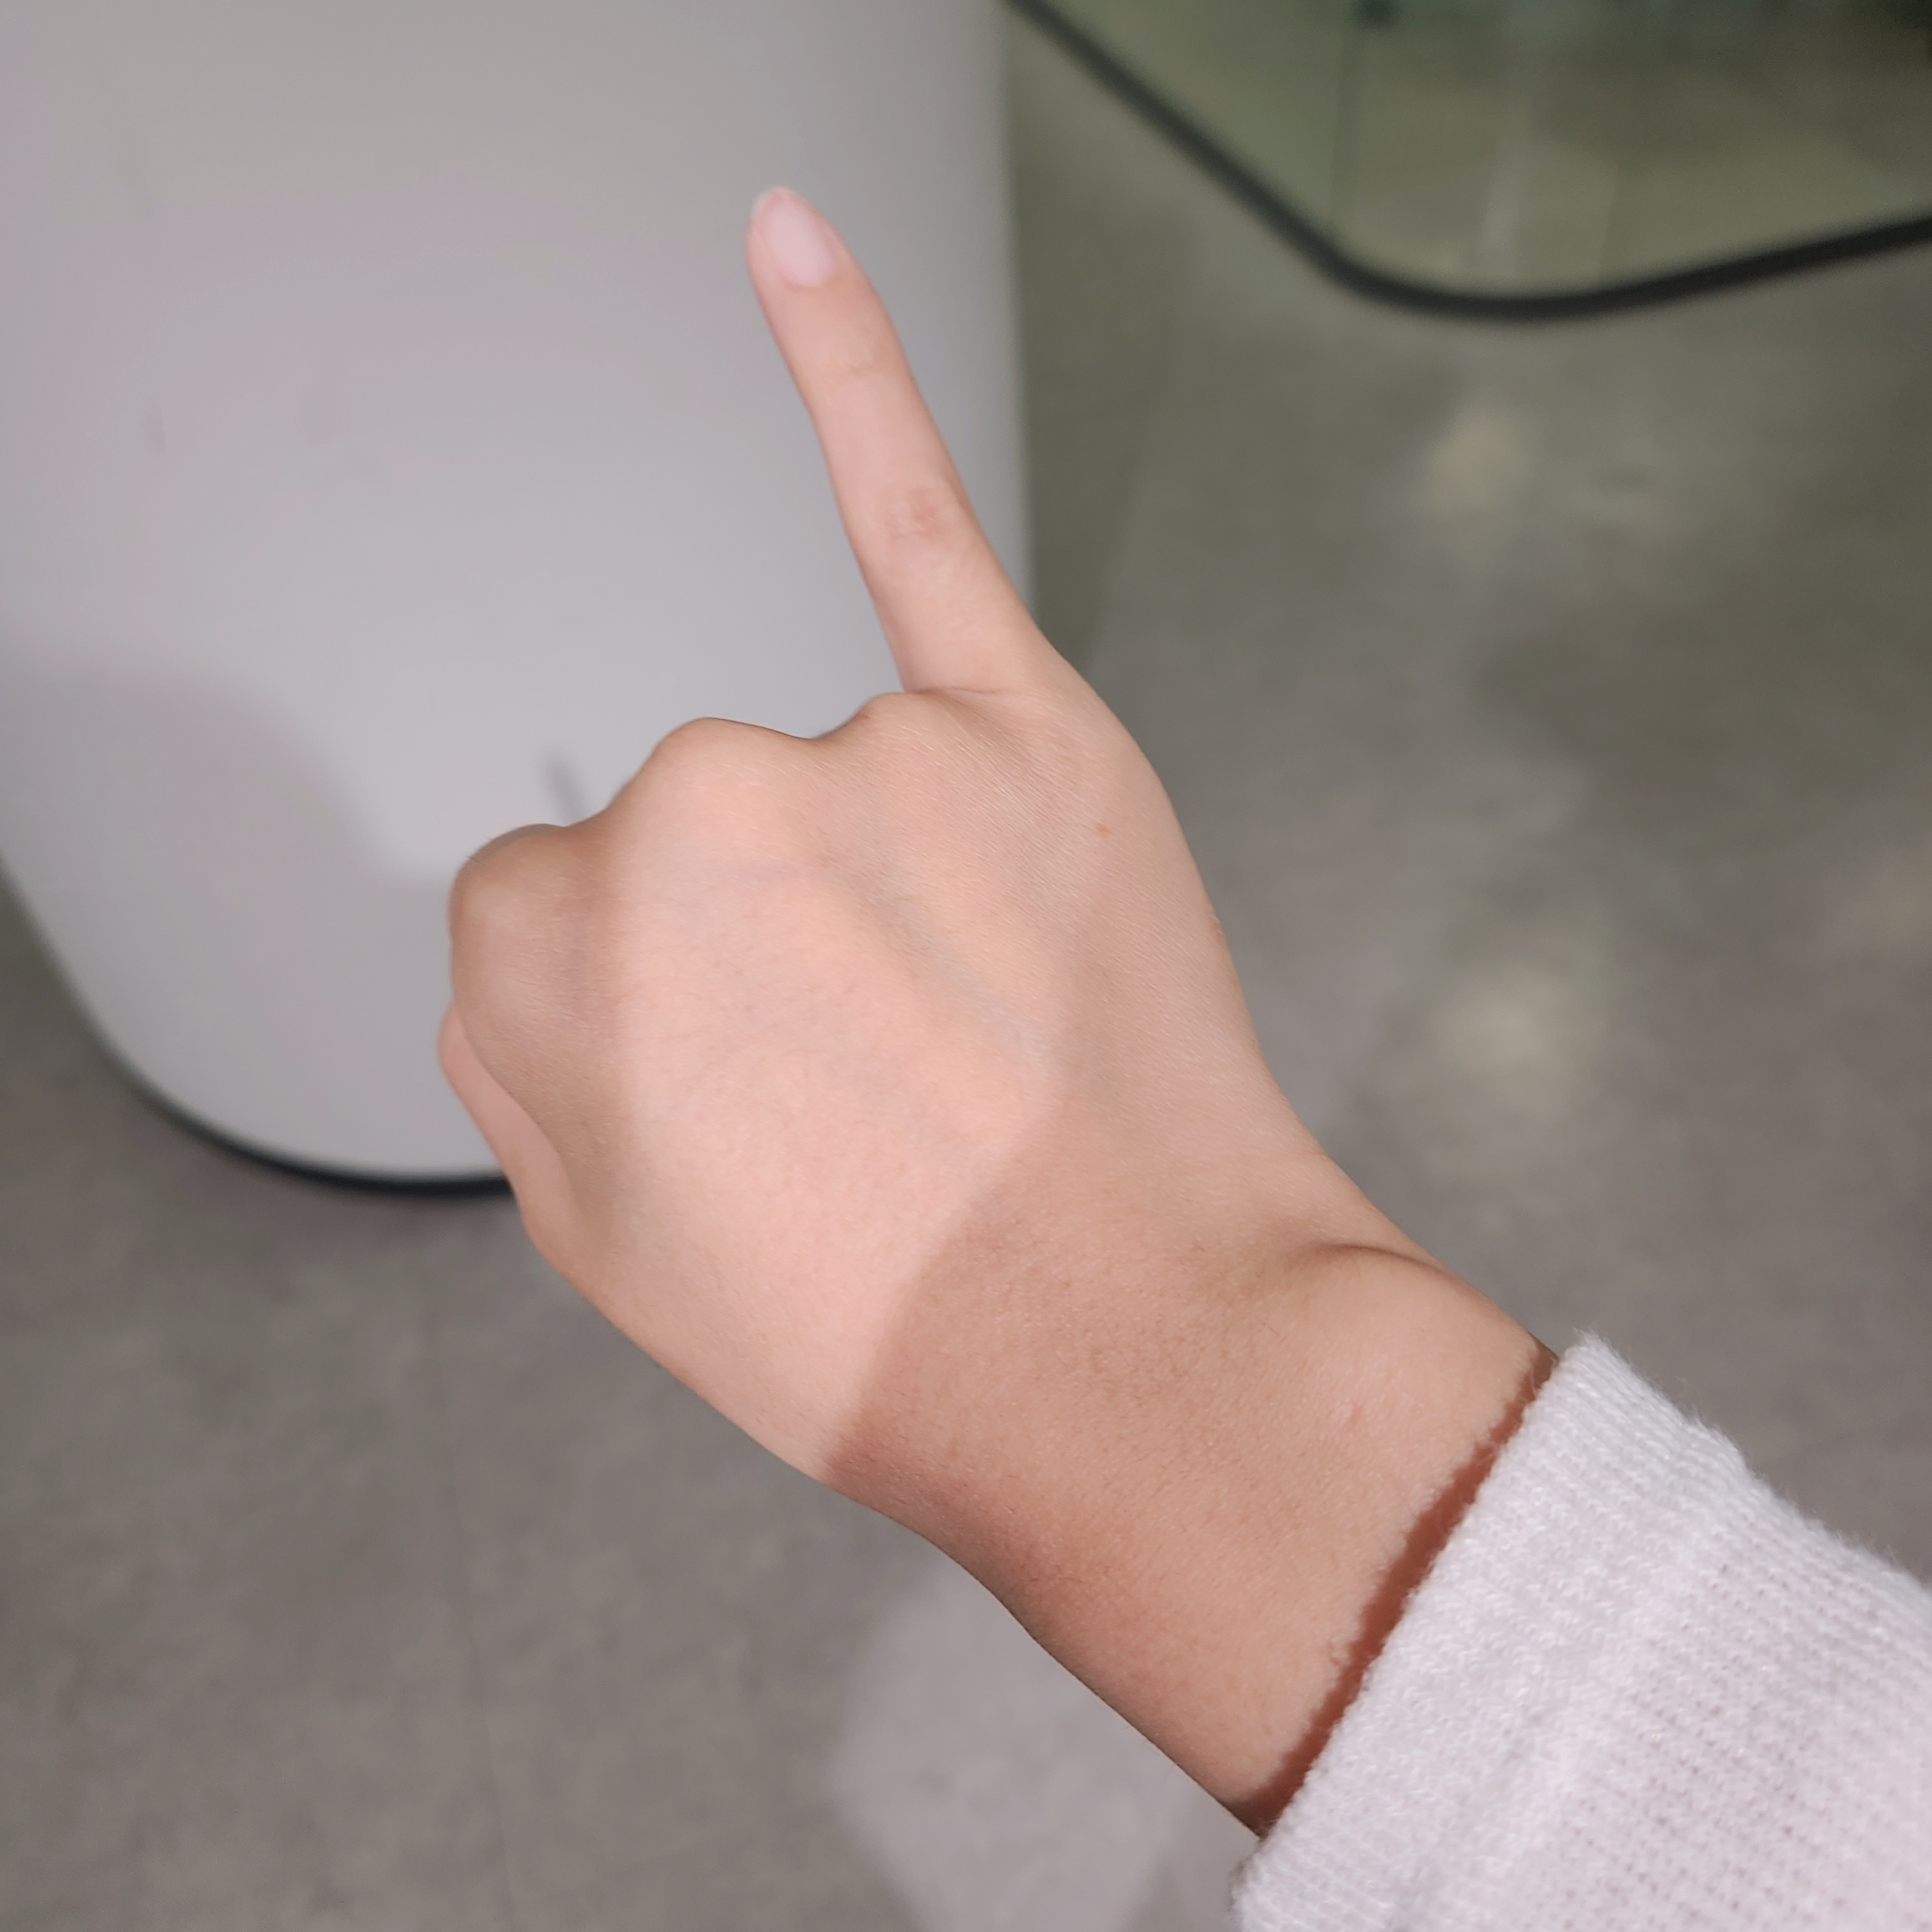fine: (434, 185, 1286, 1468)
